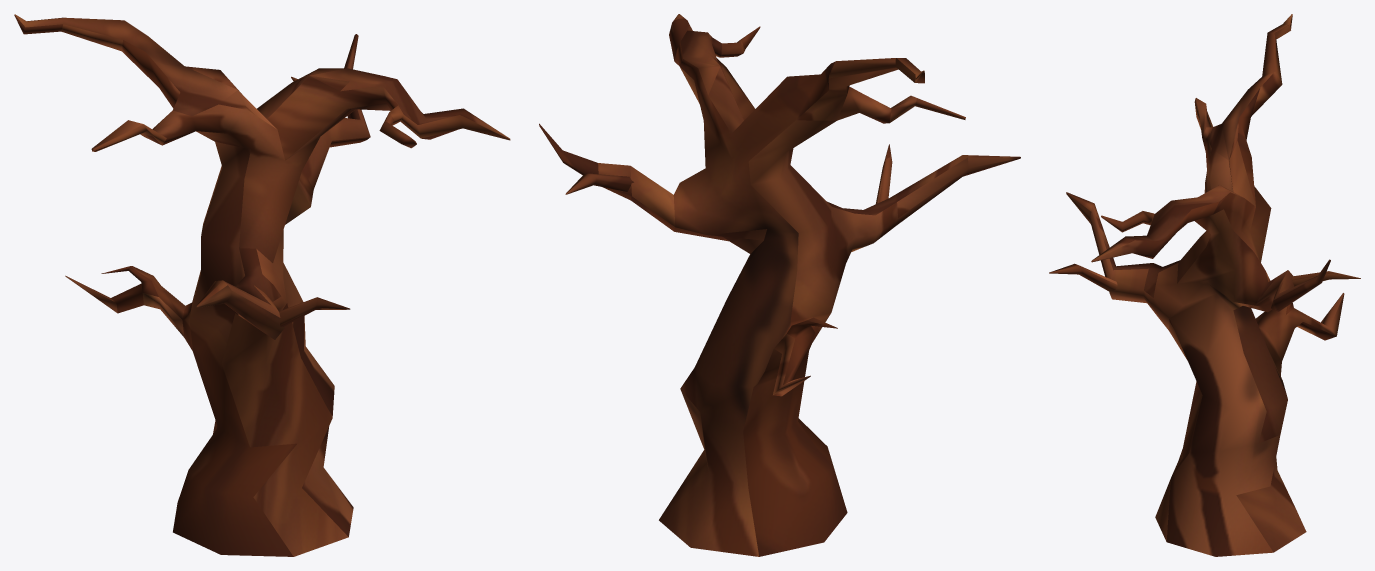
The model's file is Dead_tree.fbx.
3 views of the same model, side by side, from view 1: azimuth 30°, elevation 25°; view 2: azimuth 150°, elevation 25°; view 3: azimuth 270°, elevation 25° (orthographic). The views are drawn at different scales.
Parts seen in each view (by area): view 1: pCylinder4; view 2: pCylinder4; view 3: pCylinder4.
Boxes of the visible parts, x1,y1,x2,y2 form: pCylinder4: (14, 14, 510, 556); pCylinder4: (539, 14, 1020, 556); pCylinder4: (1049, 14, 1360, 556).
Bounding box in the file's own units: 7.54 × 10.26 × 6.76.
